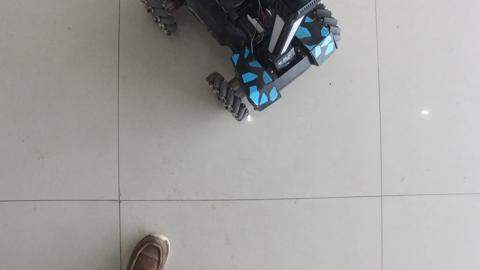chariot: (144, 7, 350, 116)
